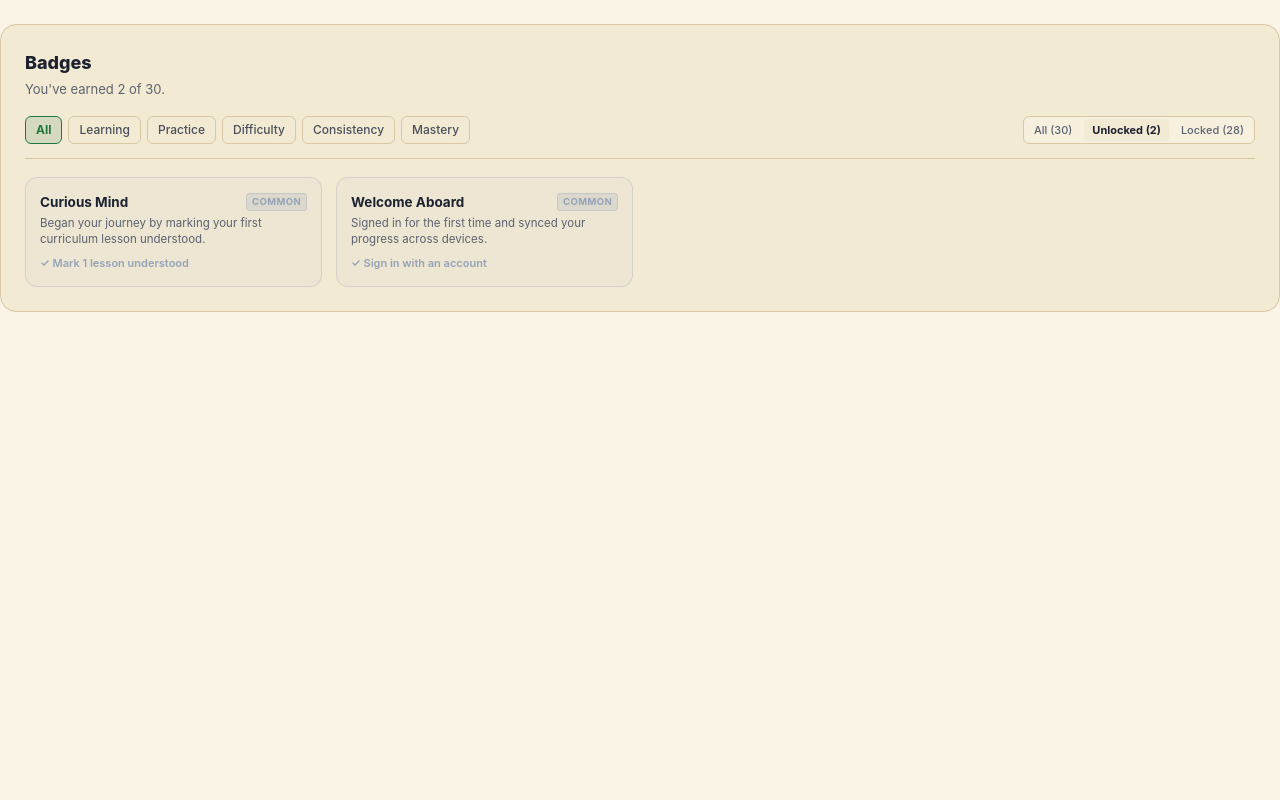
BadgeShowcase (spec v2 Part 4) › displays unlocked badge with rarity tier when earned, alongside locked badges with progress
Click the button "All (30)" at [1053, 130], box top-left (1026, 118), bottom-right (1080, 141)
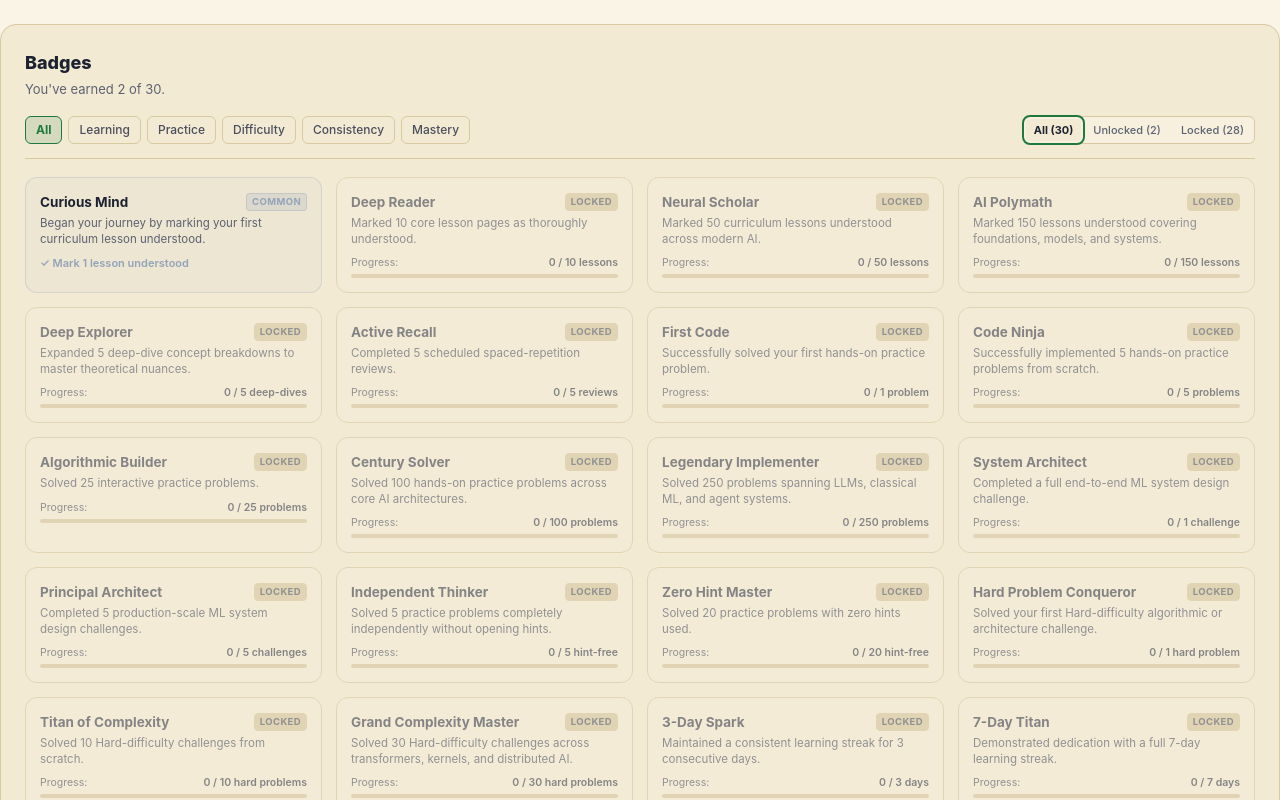
Expected: the text "First Code" is shown, top-left (662, 322), bottom-right (730, 342)
Expected: the text "Code Ninja" is shown, top-left (973, 322), bottom-right (1045, 342)
Expected: the text "LOCKED" is shown 28 times
